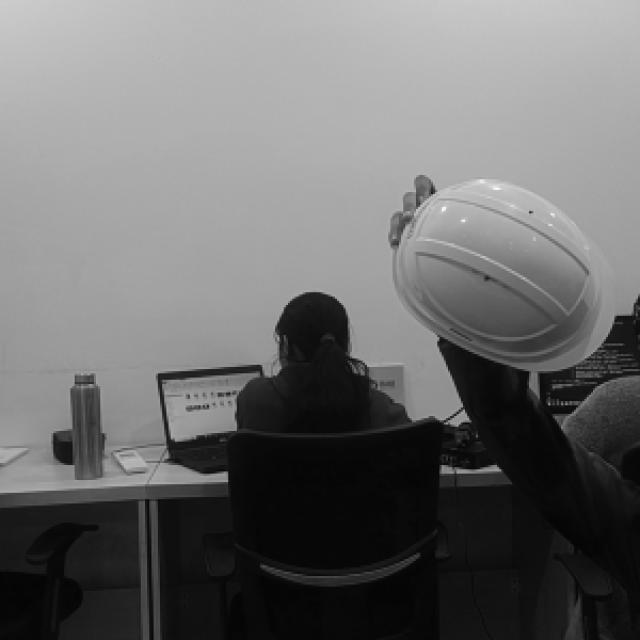safety_helmet: (393, 177, 618, 373)
